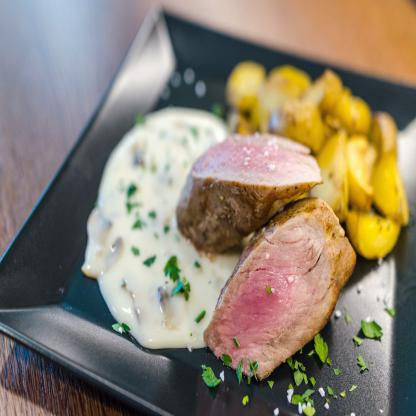Carne: (209, 194, 360, 374), (175, 137, 319, 253)
